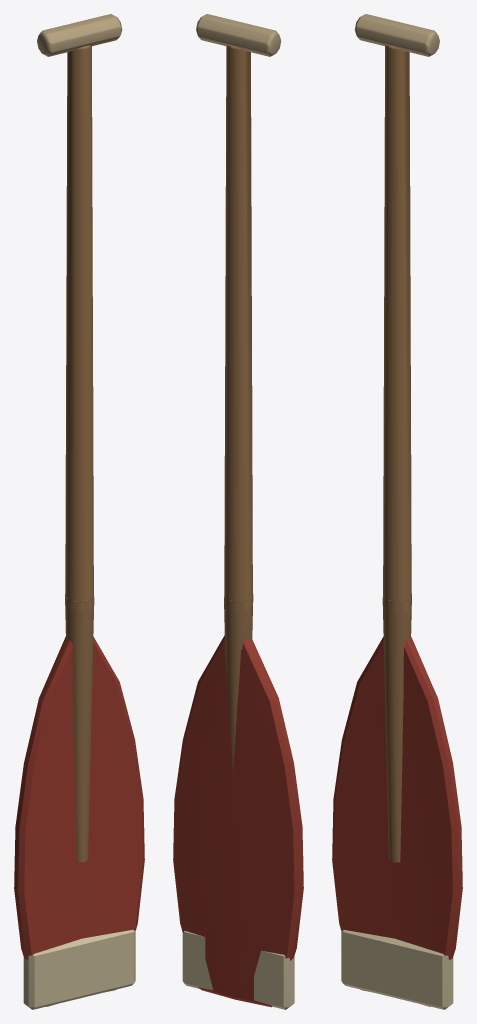
File: paddle.glb
3 renders of one model, left to right at view 1: azimuth 30°, elevation 25°; view 2: azimuth 150°, elevation 25°; view 3: azimuth 330°, elevation 25°, orthographic.
Parts seen in each view (by area): view 1: paddle; view 2: paddle; view 3: paddle.
Boxes of the visible parts, left/top/right/bottom form: paddle: left=14, top=14, right=144, bottom=1009; paddle: left=173, top=14, right=303, bottom=1009; paddle: left=332, top=14, right=462, bottom=1009.
Bounding box in the file's own units: 0.2023 × 1.48 × 0.042.
